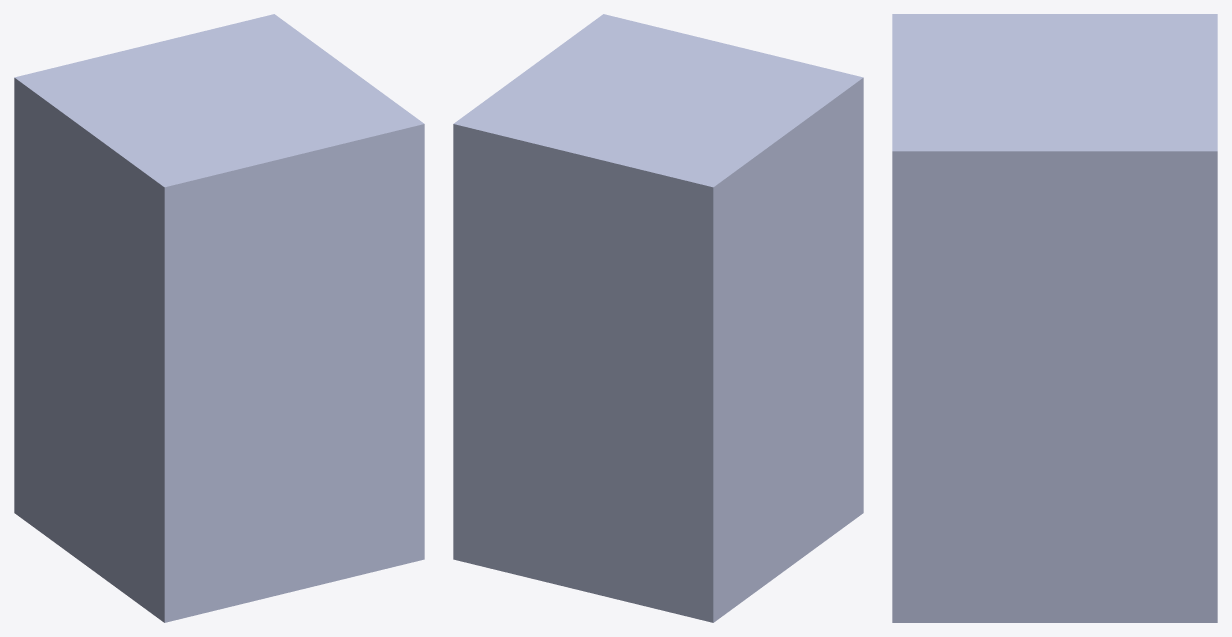
Rendered from morpheus.dae.
3 views of the same model, side by side, from view 1: azimuth 30°, elevation 25°; view 2: azimuth 150°, elevation 25°; view 3: azimuth 270°, elevation 25° (orthographic). The views are drawn at different scales.
Visible parts, largest first — view 1: pedestal; view 2: pedestal; view 3: pedestal.
Part boxes in pixels (x1,y1,x2,y2): pedestal: (14, 14, 424, 622); pedestal: (453, 14, 863, 622); pedestal: (892, 14, 1217, 622).
Size of the model in its own units: 0.25 by 0.25 by 0.4.
